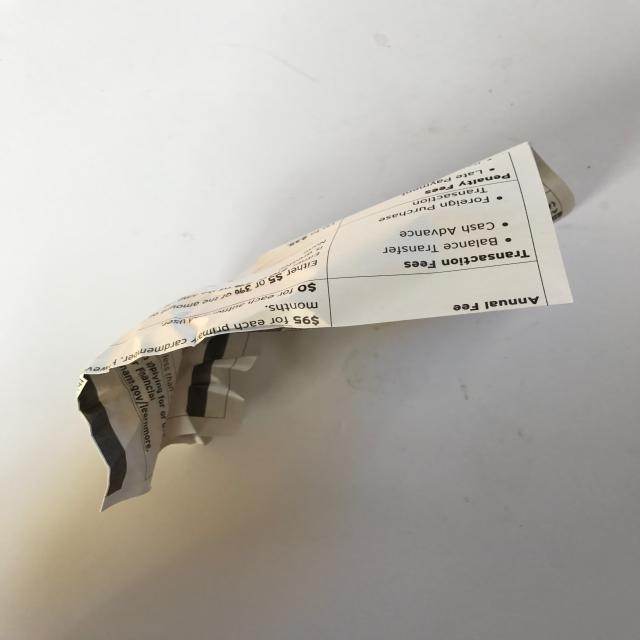paper: (58, 140, 590, 510)
